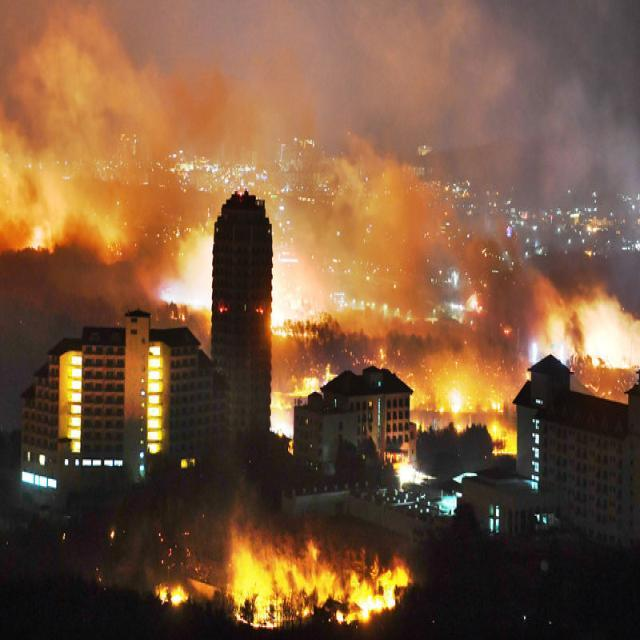Fire: (158, 529, 407, 628), (426, 346, 520, 456), (554, 268, 636, 391), (276, 298, 332, 426), (5, 219, 136, 261), (174, 219, 212, 334)
Smoke: (3, 34, 329, 191), (341, 158, 531, 315)
